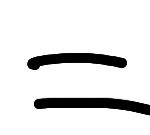eqv: (27, 53, 150, 115)
